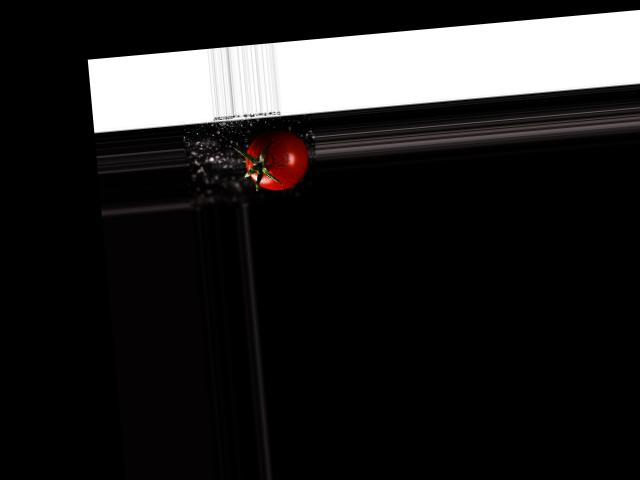tomato: (242, 126, 310, 192)
